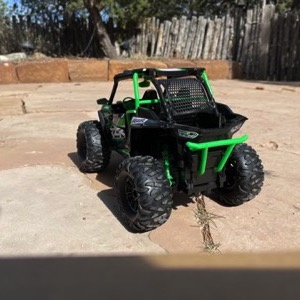polaris: (74, 67, 266, 233)
